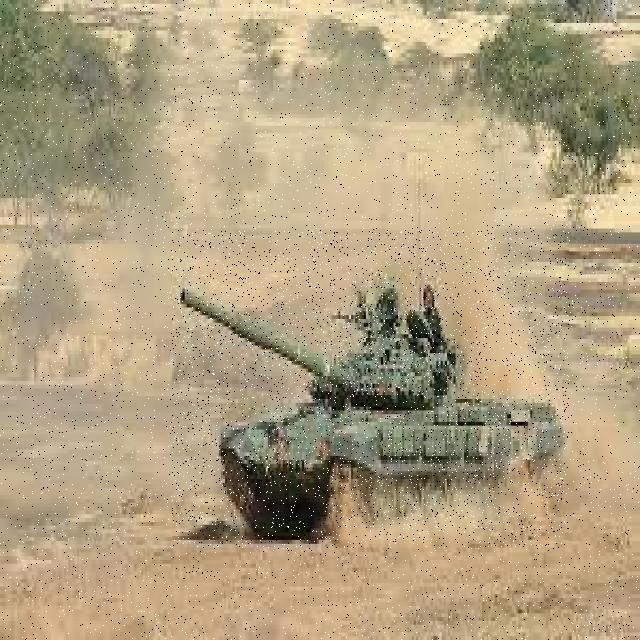MIL_MBT: (173, 231, 569, 549)
